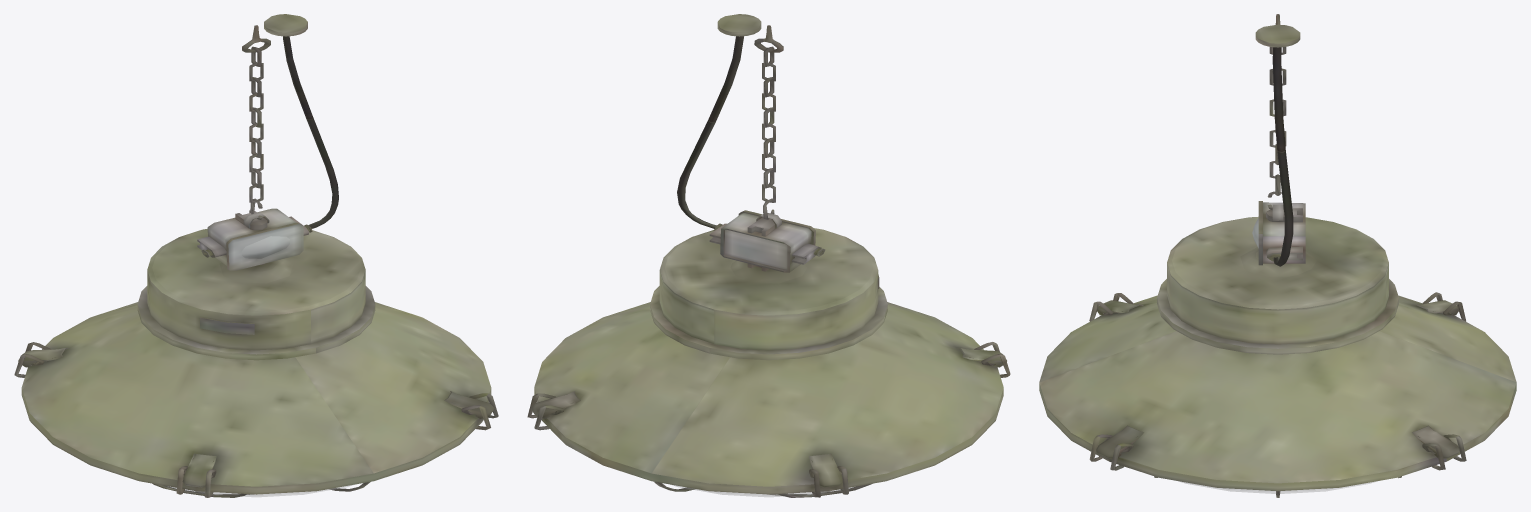
File: ph-hanging-industrial-lamp.glb
3 views of the same model, side by side, from view 1: azimuth 30°, elevation 25°; view 2: azimuth 150°, elevation 25°; view 3: azimuth 270°, elevation 25° (orthographic).
Parts seen in each view (by area): view 1: hanging_industrial_lamp; view 2: hanging_industrial_lamp; view 3: hanging_industrial_lamp.
Part boxes in pixels (x1,y1,x2,y2): hanging_industrial_lamp: (14, 14, 498, 497); hanging_industrial_lamp: (527, 14, 1010, 497); hanging_industrial_lamp: (1039, 14, 1516, 497).
Bounding box in the file's own units: 1 × 1 × 1.
2 materials, 1 textured.
